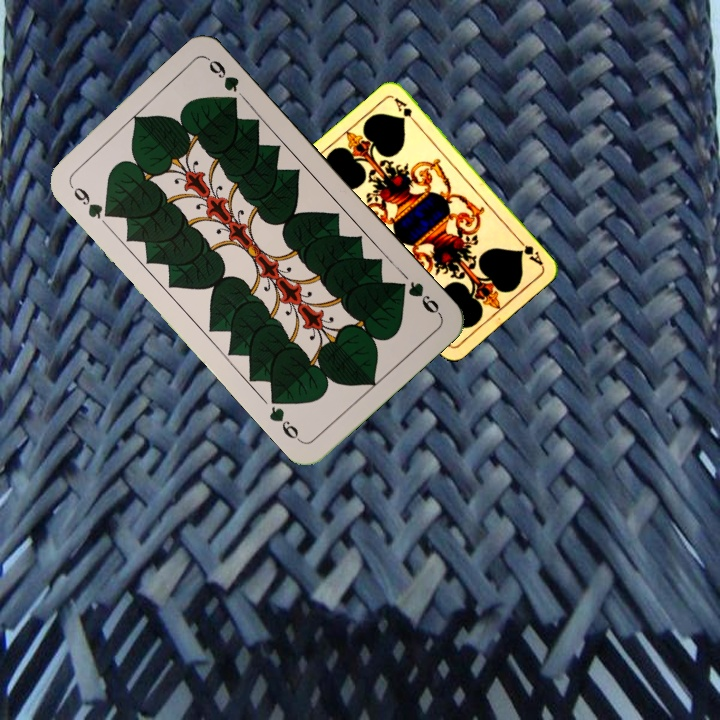G9: (392, 277, 444, 318), (66, 181, 115, 222)
GA: (514, 235, 546, 268)
